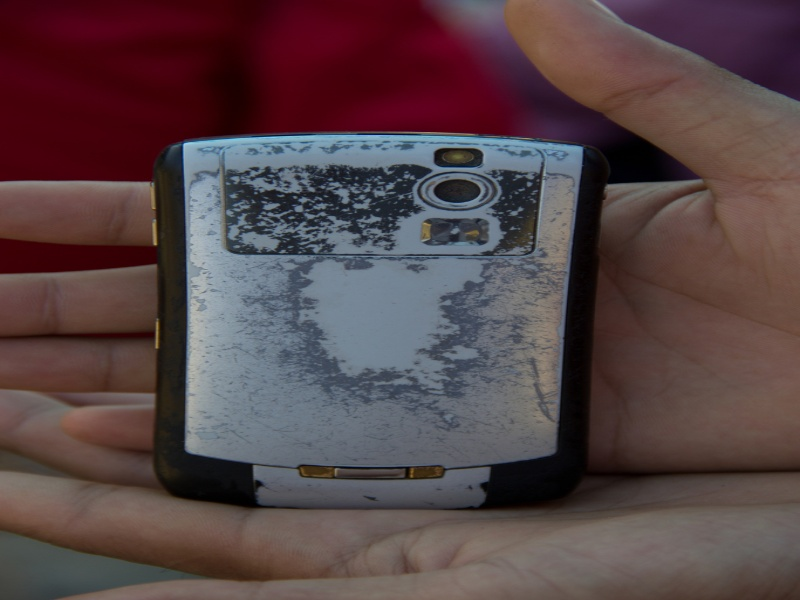Mobile Phone: (141, 109, 606, 523)
